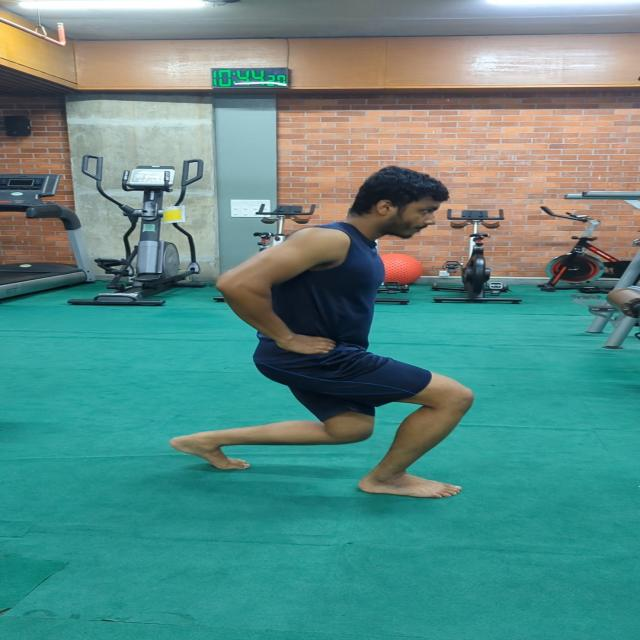Normal_Lunges: (155, 162, 497, 504)
